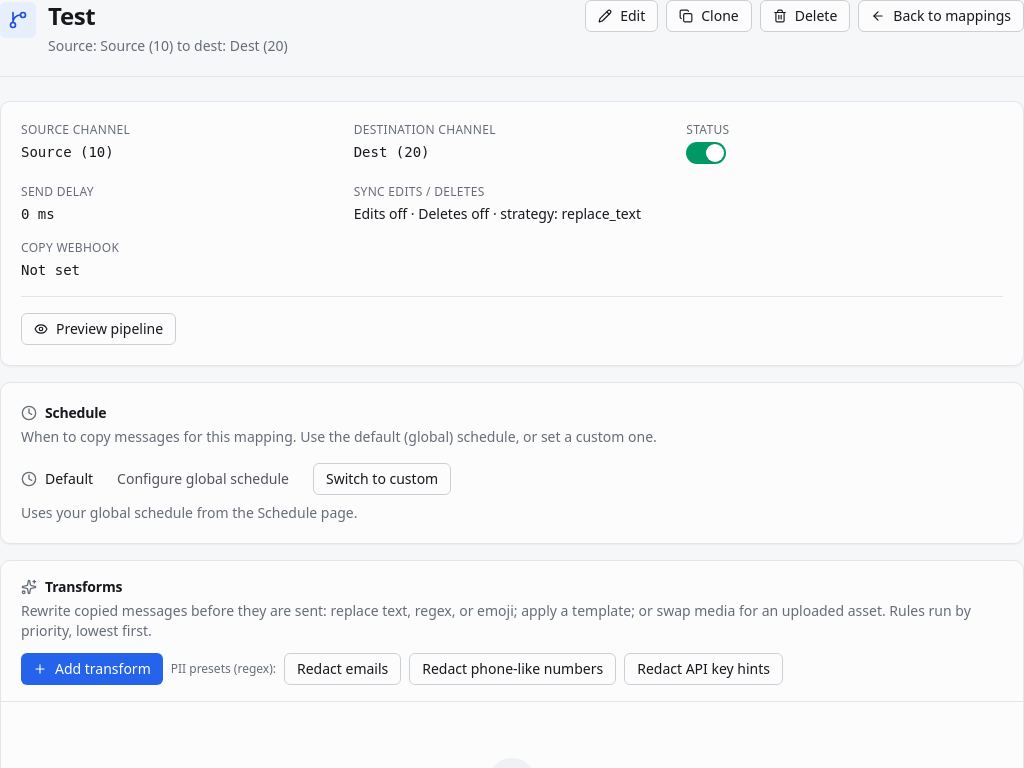
Test: MappingDetail › runs pipeline preview via POST /mappings/:id/preview
Click the button "Preview pipeline" at (99, 329), box [21,313,176,345]
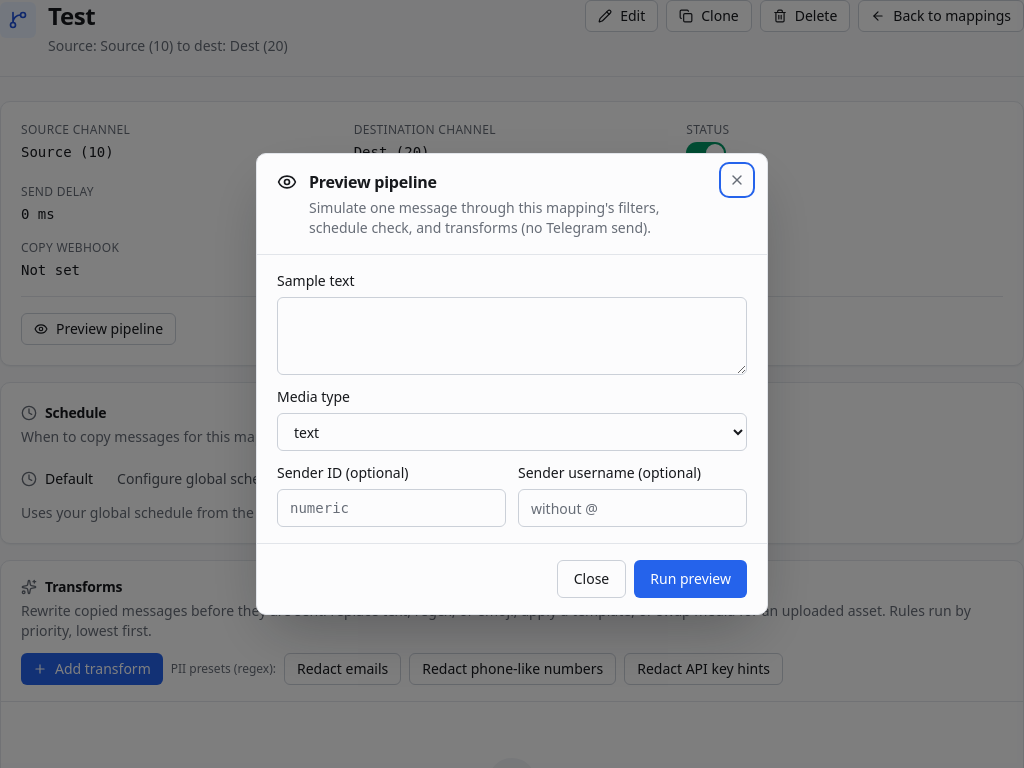
Click the button "Run preview" at (691, 579), box [634,560,747,598]
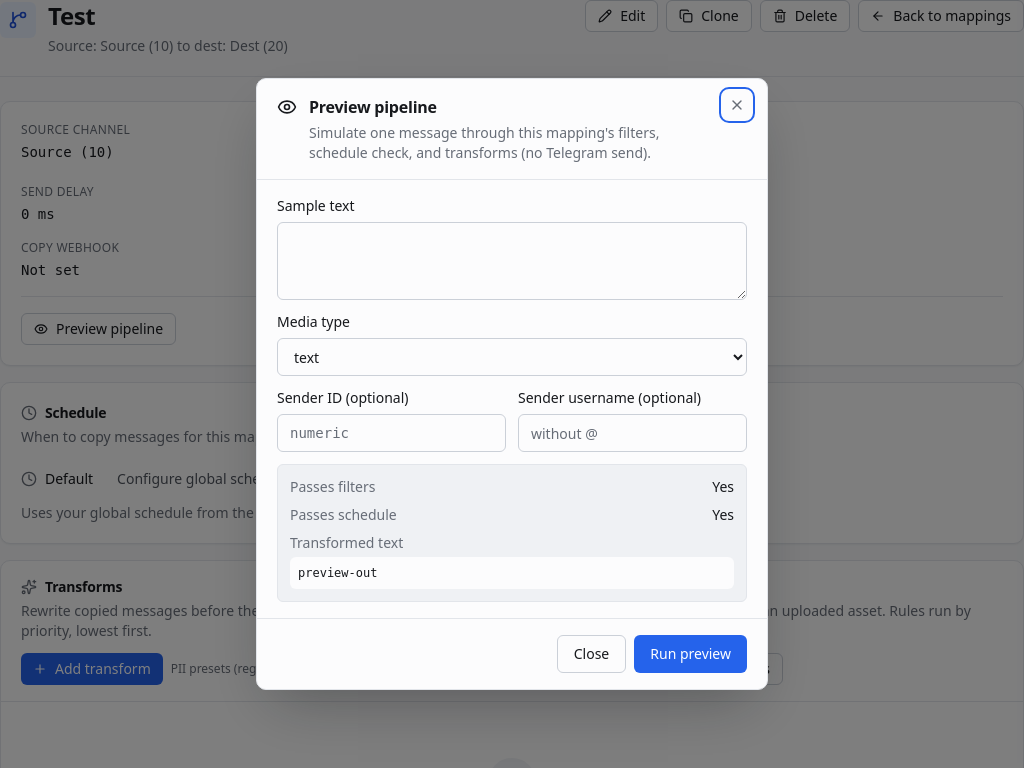
expect the text "preview-out" is shown: met, box [290,557,734,589]
